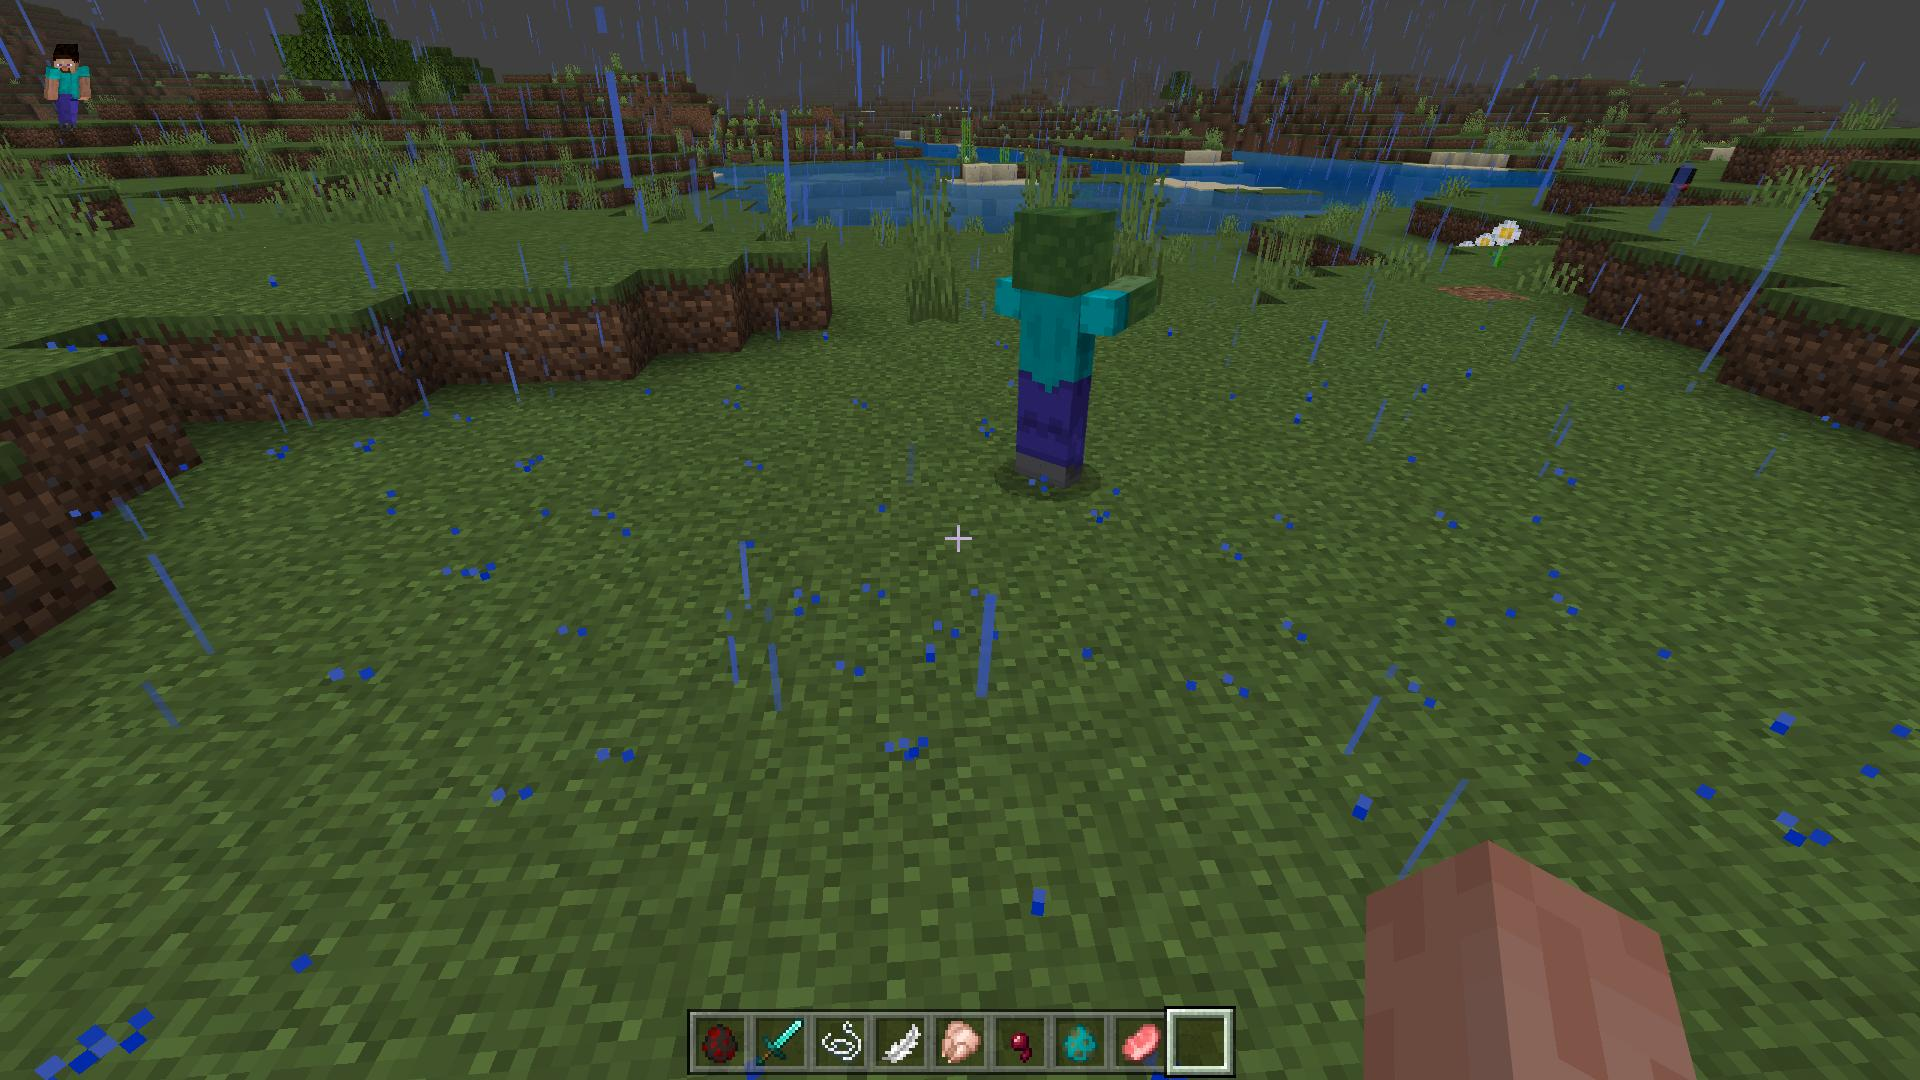zombie: (996, 207, 1158, 488)
